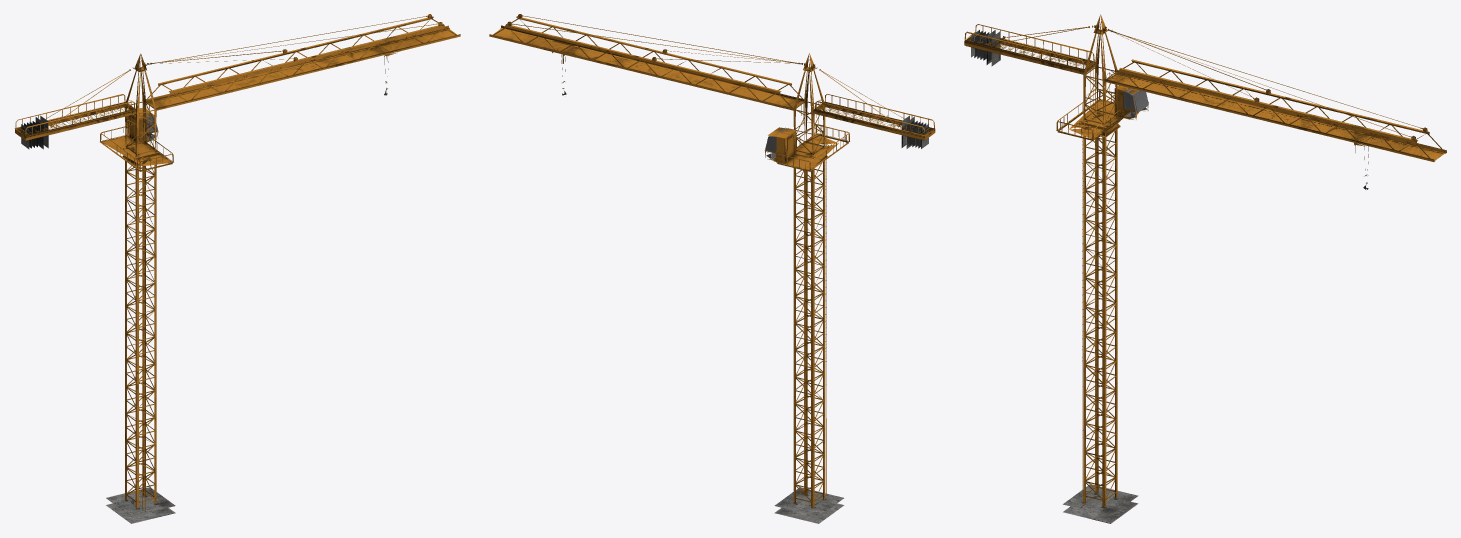
The model's file is ch_tower_crane.fbx.
3 renders of one model, left to right at view 1: azimuth 30°, elevation 25°; view 2: azimuth 150°, elevation 25°; view 3: azimuth 330°, elevation 25°, orthographic. The views are drawn at different scales.
Visible parts, largest first — view 1: ch_tower_crane_LOD0; view 2: ch_tower_crane_LOD0; view 3: ch_tower_crane_LOD0.
Boxes of the visible parts, x1,y1,x2,y2 form: ch_tower_crane_LOD0: (14, 14, 460, 523); ch_tower_crane_LOD0: (489, 14, 935, 523); ch_tower_crane_LOD0: (964, 14, 1446, 523).
Size of what is drawn, in the model's own units: 51.5 by 51.61 by 8.28.
Materials: 1 (1 with a texture image).
